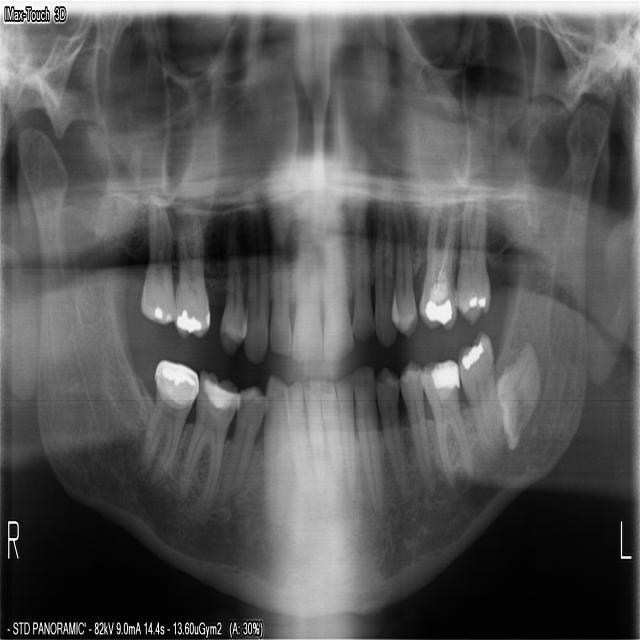LCD: (374, 357, 414, 504)
LCU: (374, 212, 397, 358)
LID: (354, 362, 389, 518), (335, 368, 364, 508)
LIU: (321, 213, 355, 365), (349, 219, 378, 349)
LMD: (421, 349, 476, 483), (456, 329, 509, 463)
LMU: (418, 202, 458, 335), (452, 196, 491, 329)
LPMD: (401, 355, 437, 493)
LPMU: (388, 208, 418, 346)
RCD: (282, 371, 313, 512)
RCU: (241, 216, 270, 363)
RID: (300, 372, 331, 499), (321, 366, 344, 499)
RIU: (289, 207, 324, 376), (269, 207, 291, 362)
RMD: (172, 365, 245, 519), (135, 349, 200, 493)
RMU: (137, 196, 176, 329), (173, 213, 211, 343)
RPMD: (217, 383, 267, 507), (262, 376, 291, 526)
RPMU: (220, 219, 245, 355)
